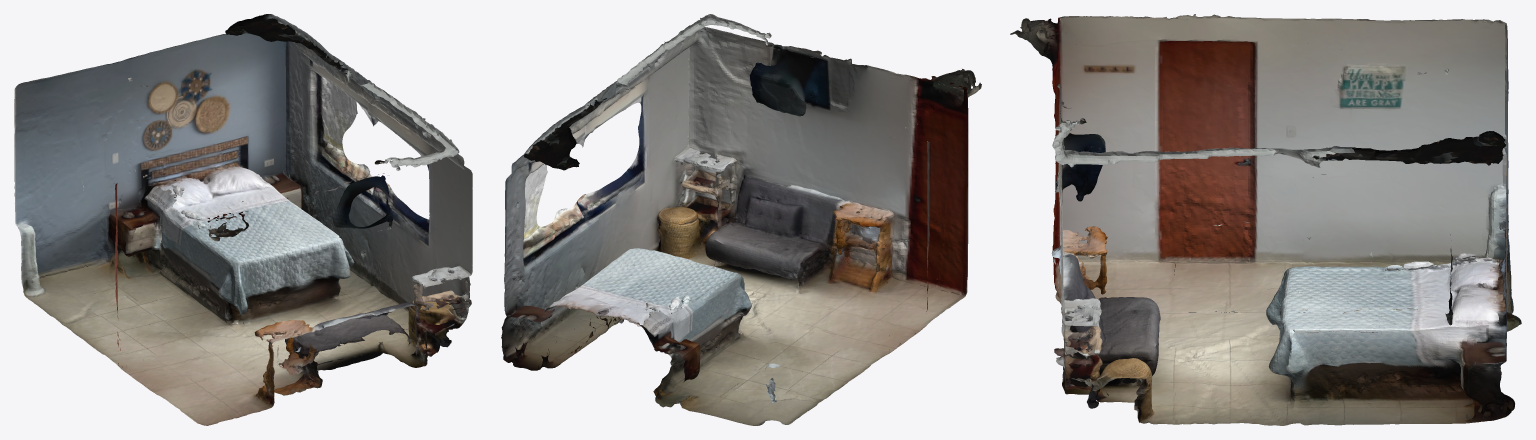
Rendered from principal.glb.
3 views of the same model, side by side, from view 1: azimuth 30°, elevation 25°; view 2: azimuth 150°, elevation 25°; view 3: azimuth 270°, elevation 25° (orthographic). The views are drawn at different scales.
Size of the model in its own units: 3.67 by 2.67 by 4.62.
1 material, 1 textured.
